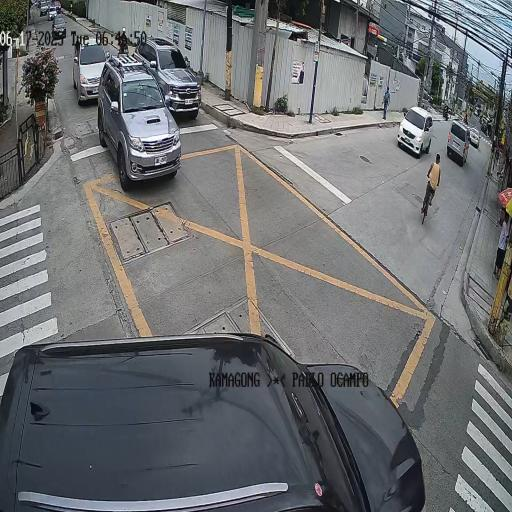Car: (3, 308, 434, 512), (94, 60, 183, 192), (142, 24, 216, 118), (64, 36, 120, 102), (390, 90, 435, 158), (446, 116, 471, 178)
